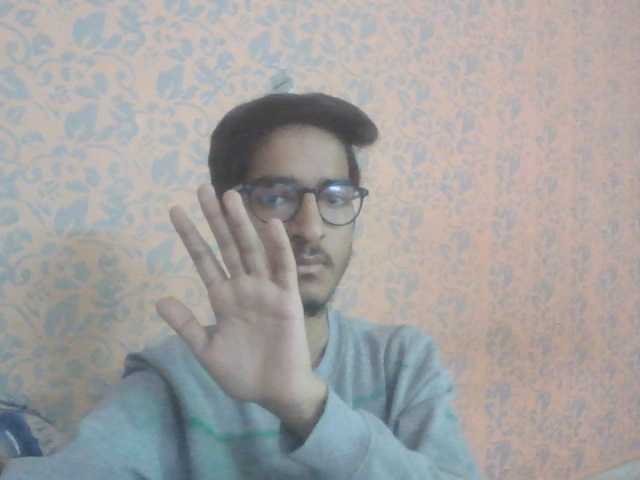Hello: (150, 178, 321, 418)
